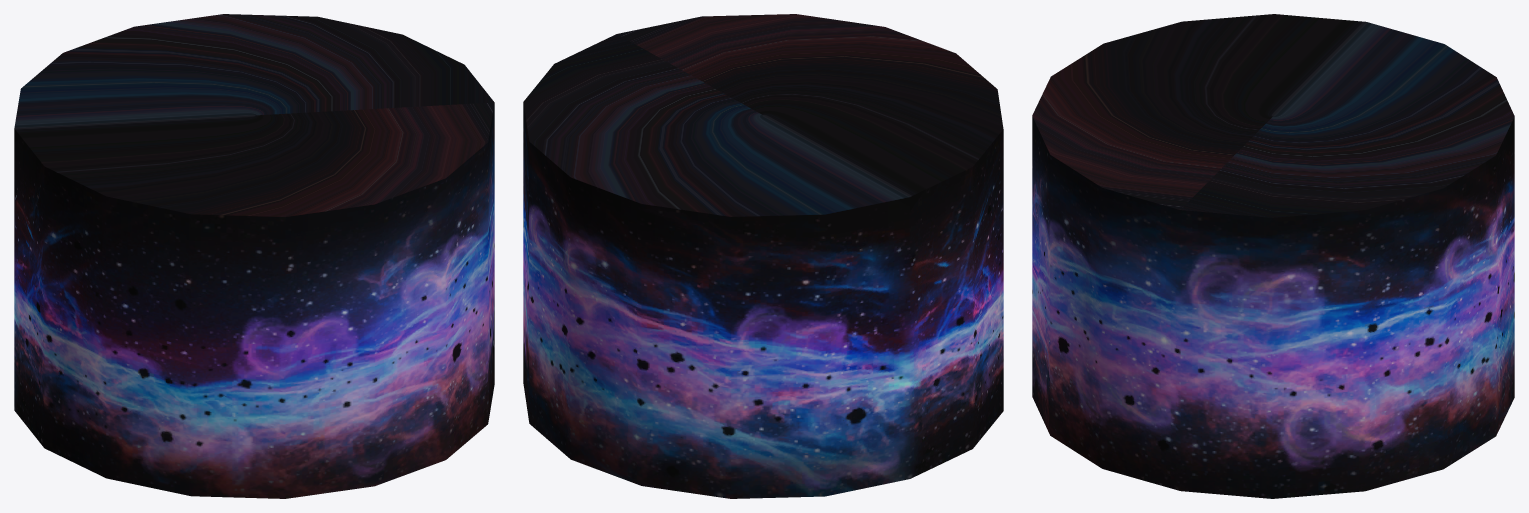
File: harazuelBGBase.fbx
3 renders of one model, left to right at view 1: azimuth 30°, elevation 25°; view 2: azimuth 150°, elevation 25°; view 3: azimuth 270°, elevation 25°, orthographic.
Visible parts, largest first — view 1: harazuelBGBase; view 2: harazuelBGBase; view 3: harazuelBGBase.
Boxes of the visible parts, left/top/right/bottom form: harazuelBGBase: left=14, top=14, right=494, bottom=498; harazuelBGBase: left=523, top=14, right=1003, bottom=498; harazuelBGBase: left=1032, top=14, right=1514, bottom=498.
Bounding box in the file's own units: 150 × 96.56 × 150.
1 material, 1 textured.
